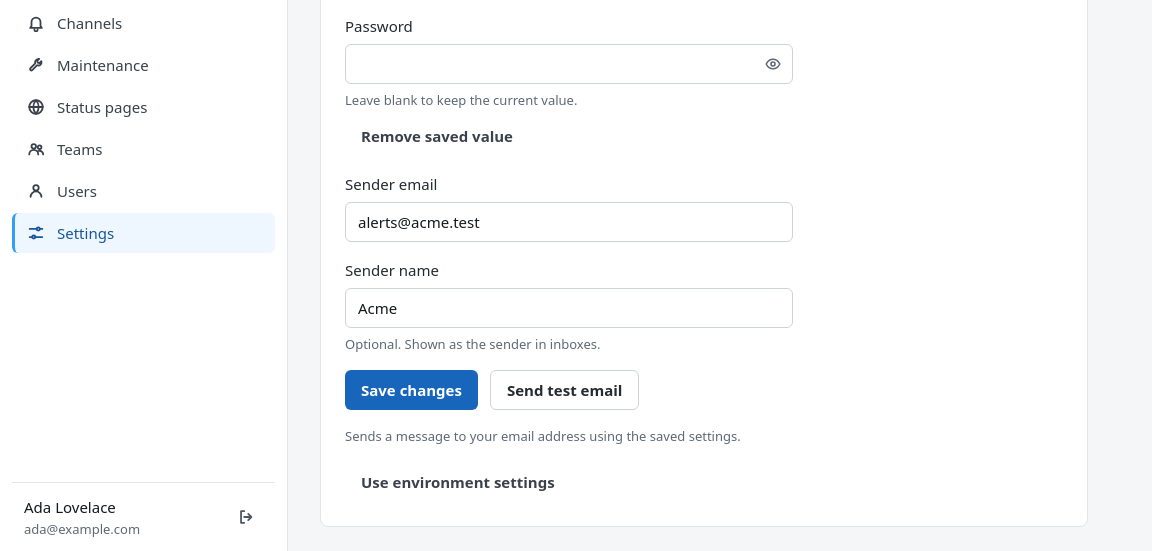
Test: MailSection › goes back to the environment settings after confirming
(page scrolled)
Click the button "Use environment settings" at (458, 482), box x1=345 y1=462 x2=571 y2=502
(page scrolled)
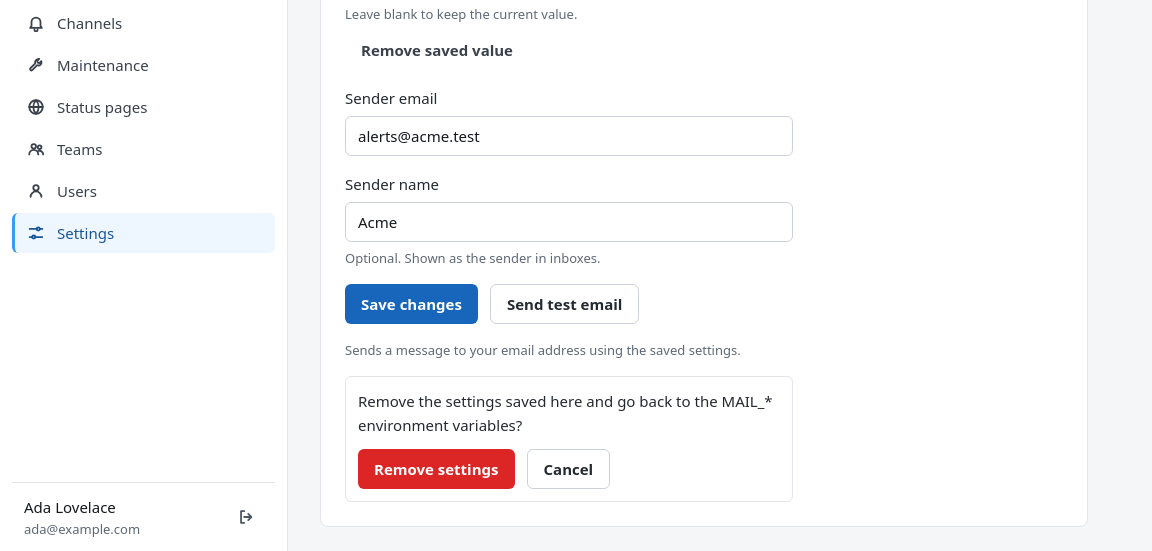
Click the button "Remove settings" at (436, 469), box x1=358 y1=449 x2=514 y2=489
(page scrolled)
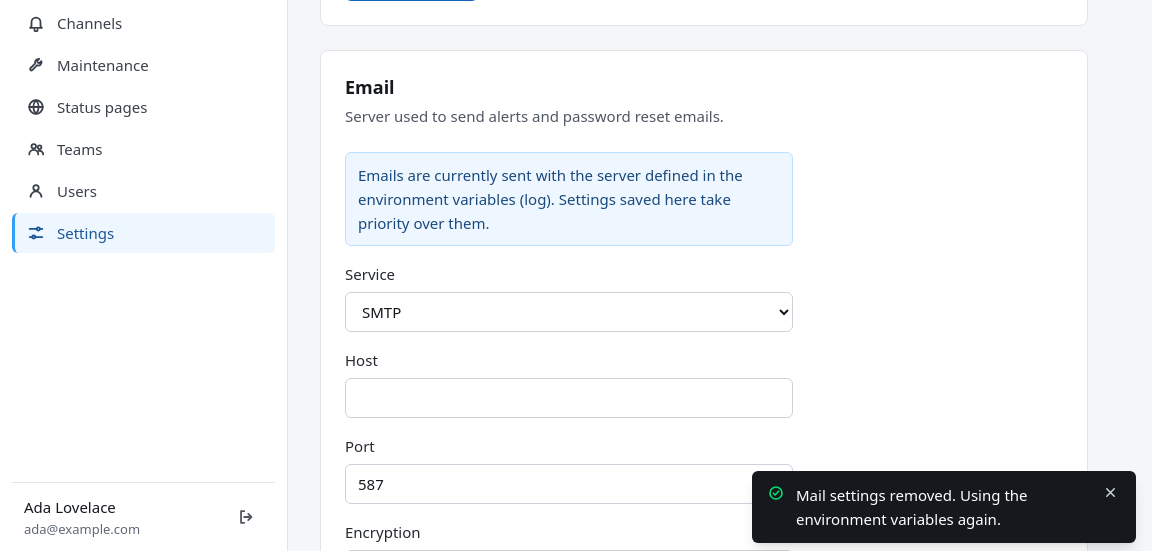
Now the text "Mail settings removed. Using the environment variables again." is shown, box x1=796 y1=485 x2=1028 y2=529
Now the text "defined in the environment variables" is shown, box x1=358 y1=165 x2=743 y2=233
